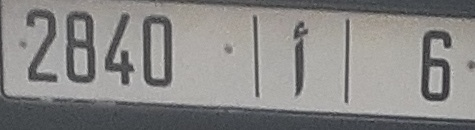0: (139, 13, 177, 89)
2: (23, 6, 59, 84)
4: (103, 12, 137, 87)
6: (420, 24, 452, 104)
8: (64, 9, 97, 85)
a: (289, 17, 310, 101)
